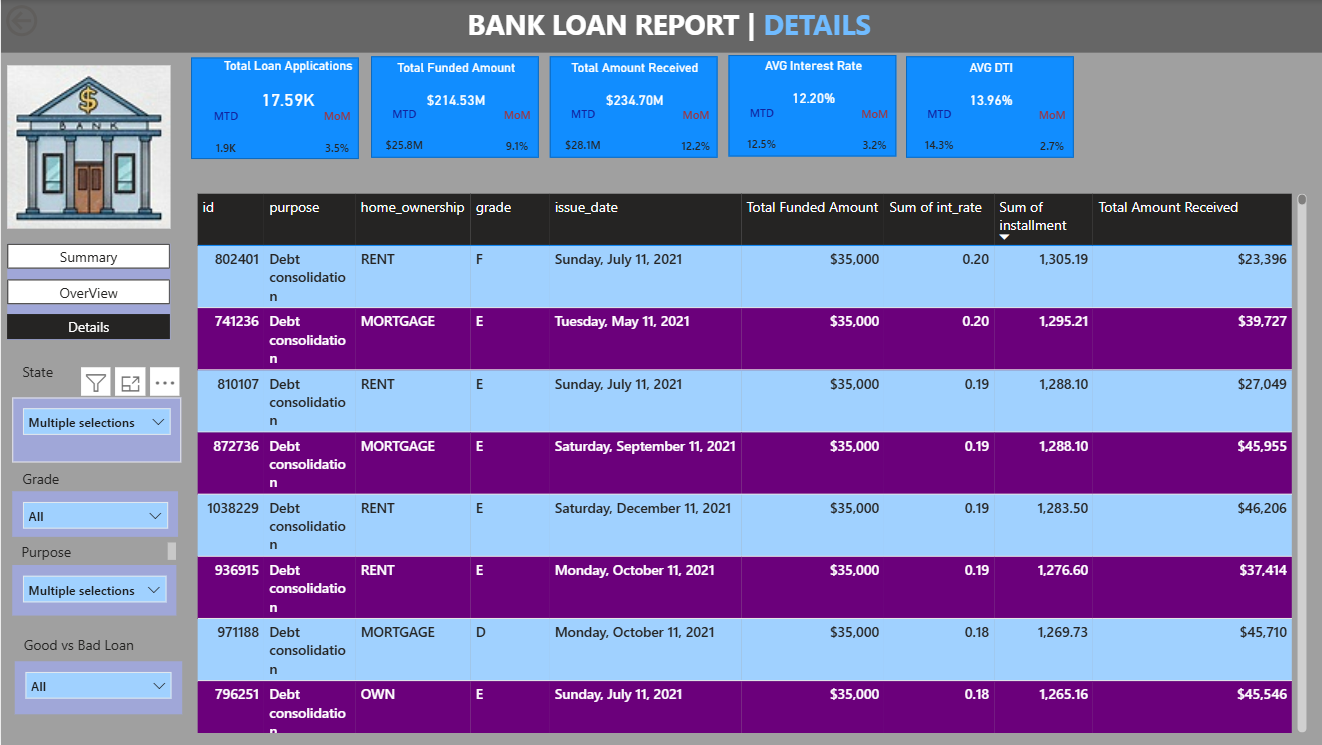

What the dashboard file says about the page in this screenshot:
{"tool":"powerbi","page":{"name":"Details","canvas":[1280,720],"ordinal":2},"visuals":[{"type":"shape","box":[0,0,1280,50.8],"z":0},{"type":"shape","box":[701.6,53.6,162,98],"z":0,"group":"g4"},{"type":"shape","box":[873.8,53.8,162,98],"z":0,"group":"g5"},{"type":"shape","box":[357,54,162,98],"z":0,"group":"g2"},{"type":"shape","box":[530,54.3,162,98],"z":0,"group":"g3"},{"type":"shape","box":[183,55,162,98],"z":0,"group":"g1"},{"type":"textbox","box":[386.1,0,517.6,49.5],"z":1000},{"type":"card","title":"Total Loan Applications","fields":{"Values":["Bank_Loan_dataset.Total Loan Applications"]},"box":[208,55.9,137,48.1],"z":1000,"group":"g1"},{"type":"card","title":"AVG Interest Rate","fields":{"Values":["Bank_Loan_dataset.AVG Interest Rate"]},"box":[716,57.6,135.6,50],"z":1000,"group":"g4"},{"type":"card","title":"AVG DTI","fields":{"Values":["Bank_Loan_dataset.AVG DTI"]},"box":[888.2,57.8,135.6,50],"z":1000,"group":"g5"},{"type":"card","title":"Total Funded Amount","fields":{"Values":["Bank_Loan_dataset.Total Funded Amount"]},"box":[371.4,58,135.6,50],"z":1000,"group":"g2"},{"type":"card","title":"Total  Amount Received","fields":{"Values":["Bank_Loan_dataset.Total Amount REceived"]},"box":[544.4,58.3,135.6,50],"z":1000,"group":"g3"},{"type":"group","id":"g1","title":"Group 1","box":[183,55,162,98],"z":2000},{"type":"card","title":"MTD","fields":{"Values":["Bank_Loan_dataset.MTD AVG Interest Rate"]},"box":[708.3,102,50,50],"z":2000,"group":"g4"},{"type":"card","title":"MTD","fields":{"Values":["Bank_Loan_dataset.MTD AVG DTI"]},"box":[880.5,102.2,50,50],"z":2000,"group":"g5"},{"type":"card","title":"MTD","fields":{"Values":["Bank_Loan_dataset.MTD Funded Amount Applications"]},"box":[363.7,102.4,50,50],"z":2000,"group":"g2"},{"type":"card","title":"MTD","fields":{"Values":["Bank_Loan_dataset.MTD Total Amount Received"]},"box":[536.7,102.7,50,50],"z":2000,"group":"g3"},{"type":"card","title":"MTD","fields":{"Values":["Bank_Loan_dataset.MTD Loan Applications"]},"box":[196,104,41,49],"z":2000,"group":"g1"},{"type":"group","id":"g2","title":"Group 1","box":[357,54,162,98.4],"z":3000},{"type":"card","title":"MoM","fields":{"Values":["Bank_Loan_dataset.MOm AVG Interest Rate"]},"box":[822.6,102.6,41,49],"z":3000,"group":"g4"},{"type":"card","title":"MoM","fields":{"Values":["Bank_Loan_dataset.MoM AVG DTI"]},"box":[994.8,102.8,41,49],"z":3000,"group":"g5"},{"type":"card","title":"MoM","fields":{"Values":["Bank_Loan_dataset.MoM Total Funded Amount"]},"box":[478,103,41,49],"z":3000,"group":"g2"},{"type":"card","title":"MoM","fields":{"Values":["Bank_Loan_dataset.MoM Total Amount Recieved"]},"box":[651,103.3,41,49],"z":3000,"group":"g3"},{"type":"card","title":"MoM","fields":{"Values":["Bank_Loan_dataset.MoM Loan Applications"]},"box":[304,104,41,49],"z":3000,"group":"g1"},{"type":"group","id":"g3","title":"Group 1","box":[530,54.3,161.4,98.6],"z":4000},{"type":"group","id":"g4","title":"Group 1","box":[701.6,53.6,162,98.4],"z":5000},{"type":"group","id":"g5","title":"Group 1","box":[873.8,53.8,162.5,98.8],"z":6000},{"type":"slicer","fields":{"Values":["Bank_Loan_dataset.address_state"]},"box":[10.9,383.6,162.9,62.7],"z":7000},{"type":"textbox","box":[15.7,345,155.6,30.2],"z":8000},{"type":"slicer","fields":{"Values":["Bank_Loan_dataset.grade"]},"box":[11.4,474.3,160,44.3],"z":9000},{"type":"slicer","fields":{"Values":["Bank_Loan_dataset.purpose","Bank_Loan_dataset.grade"]},"box":[11.4,545.7,158.6,48.6],"z":10000},{"type":"textbox","box":[15.7,447.1,84.5,27.7],"z":11000},{"type":"textbox","box":[14.3,518.6,159.3,26.5],"z":12000},{"type":"slicer","fields":{"Values":["Bank_Loan_dataset.Good vs Bad Loan"]},"box":[12.9,638.6,161.4,51.4],"z":13000},{"type":"textbox","box":[17.1,608.6,155.7,30],"z":14000},{"type":"tableEx","fields":{"Values":["Bank_Loan_dataset.id","Bank_Loan_dataset.purpose","Bank_Loan_dataset.home_ownership","Bank_Loan_dataset.grade","Bank_Loan_dataset.issue_date","Bank_Loan_dataset.Total Funded Amount","Sum(Bank_Loan_dataset.int_rate)","Sum(Bank_Loan_dataset.installment)","Bank_Loan_dataset.Total Amount Received"]},"box":[183.4,182.2,1082.2,529.6],"z":15000},{"type":"actionButton","box":[0,0,100,40],"z":16000},{"type":"pageNavigator","box":[6.2,235,157.5,92.5],"z":17000},{"type":"image","box":[6.2,50,157.5,185],"z":18000}]}

Visuals, with their boxes on the page's 1280x720 design canvas (x1, y1, x2, y2). These are canvas units, not pixel positions in the 1322x745 screenshot, which may show the page scaled, cropped or inside an application window:
shape: (left=0, top=0, right=1280, bottom=51)
shape: (left=702, top=54, right=864, bottom=152)
shape: (left=874, top=54, right=1036, bottom=152)
shape: (left=357, top=54, right=519, bottom=152)
shape: (left=530, top=54, right=692, bottom=152)
shape: (left=183, top=55, right=345, bottom=153)
textbox: (left=386, top=0, right=904, bottom=50)
"Total Loan Applications" card: (left=208, top=56, right=345, bottom=104)
"AVG Interest Rate" card: (left=716, top=58, right=852, bottom=108)
"AVG DTI" card: (left=888, top=58, right=1024, bottom=108)
"Total Funded Amount" card: (left=371, top=58, right=507, bottom=108)
"Total  Amount Received" card: (left=544, top=58, right=680, bottom=108)
"Group 1" group: (left=183, top=55, right=345, bottom=153)
"MTD" card: (left=708, top=102, right=758, bottom=152)
"MTD" card: (left=880, top=102, right=930, bottom=152)
"MTD" card: (left=364, top=102, right=414, bottom=152)
"MTD" card: (left=537, top=103, right=587, bottom=153)
"MTD" card: (left=196, top=104, right=237, bottom=153)
"Group 1" group: (left=357, top=54, right=519, bottom=152)
"MoM" card: (left=823, top=103, right=864, bottom=152)
"MoM" card: (left=995, top=103, right=1036, bottom=152)
"MoM" card: (left=478, top=103, right=519, bottom=152)
"MoM" card: (left=651, top=103, right=692, bottom=152)
"MoM" card: (left=304, top=104, right=345, bottom=153)
"Group 1" group: (left=530, top=54, right=691, bottom=153)
"Group 1" group: (left=702, top=54, right=864, bottom=152)
"Group 1" group: (left=874, top=54, right=1036, bottom=153)
slicer - Bank_Loan_dataset.address_state: (left=11, top=384, right=174, bottom=446)
textbox: (left=16, top=345, right=171, bottom=375)
slicer - Bank_Loan_dataset.grade: (left=11, top=474, right=171, bottom=519)
slicer - Bank_Loan_dataset.purpose x Bank_Loan_dataset.grade: (left=11, top=546, right=170, bottom=594)
textbox: (left=16, top=447, right=100, bottom=475)
textbox: (left=14, top=519, right=174, bottom=545)
slicer - Bank_Loan_dataset.Good vs Bad Loan: (left=13, top=639, right=174, bottom=690)
textbox: (left=17, top=609, right=173, bottom=639)
tableEx - Bank_Loan_dataset.id x Bank_Loan_dataset.purpose: (left=183, top=182, right=1266, bottom=712)
actionButton: (left=0, top=0, right=100, bottom=40)
pageNavigator: (left=6, top=235, right=164, bottom=328)
image: (left=6, top=50, right=164, bottom=235)
